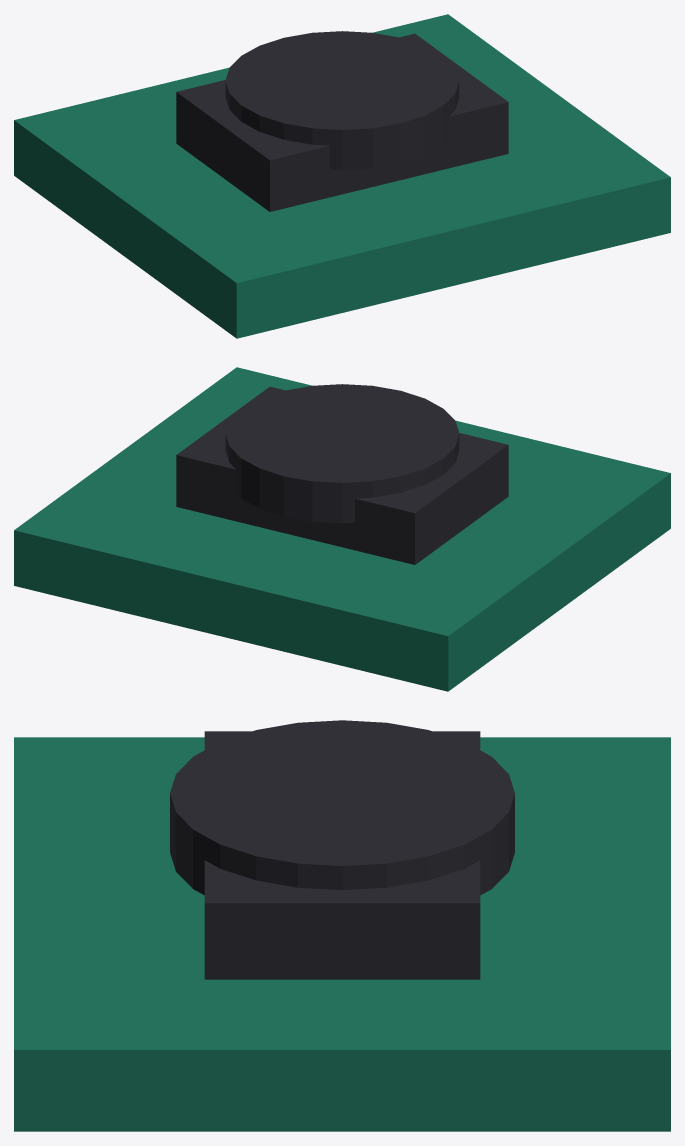
The model's file is 38_L96_S4_Sensor.glb.
3 renders of one model, top to bottom at view 1: azimuth 30°, elevation 25°; view 2: azimuth 150°, elevation 25°; view 3: azimuth 270°, elevation 25°, orthographic. The views are drawn at different scales.
Parts seen in each view (by area): view 1: S4_000_Mini_Module_PCB, S4_006_Hall_Aperture, S4_001_Sensor_Interface_Package; view 2: S4_000_Mini_Module_PCB, S4_006_Hall_Aperture, S4_001_Sensor_Interface_Package; view 3: S4_000_Mini_Module_PCB, S4_006_Hall_Aperture, S4_001_Sensor_Interface_Package.
Boxes of the visible parts, x1,y1,x2,y2 form: S4_000_Mini_Module_PCB: [14, 14, 670, 338]; S4_006_Hall_Aperture: [225, 31, 459, 170]; S4_001_Sensor_Interface_Package: [176, 33, 508, 211]; S4_000_Mini_Module_PCB: [14, 367, 670, 691]; S4_006_Hall_Aperture: [225, 384, 459, 523]; S4_001_Sensor_Interface_Package: [176, 386, 508, 564]; S4_000_Mini_Module_PCB: [14, 737, 670, 1131]; S4_006_Hall_Aperture: [170, 720, 514, 895]; S4_001_Sensor_Interface_Package: [204, 731, 480, 979].
Size of the model in its own units: 0.009 by 0.00287 by 0.008.
